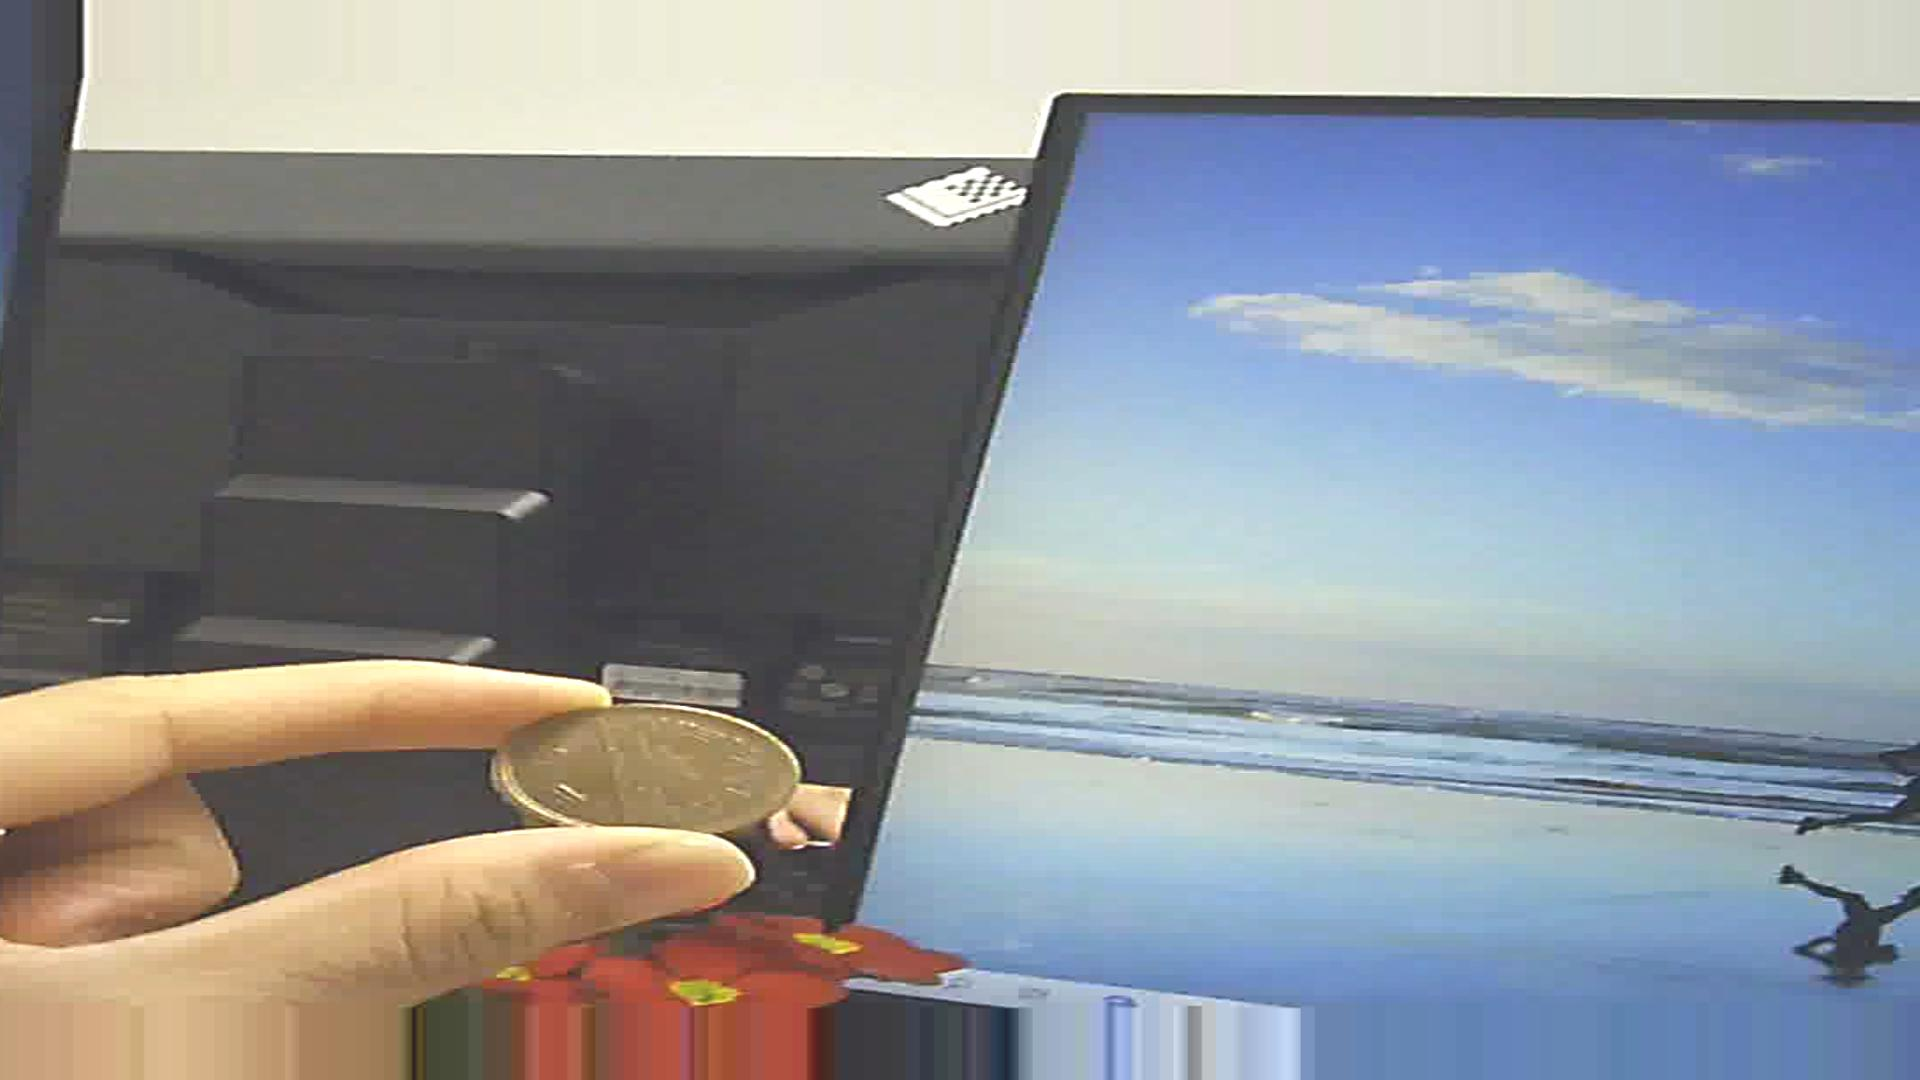10 Yen: (465, 650, 835, 880)
